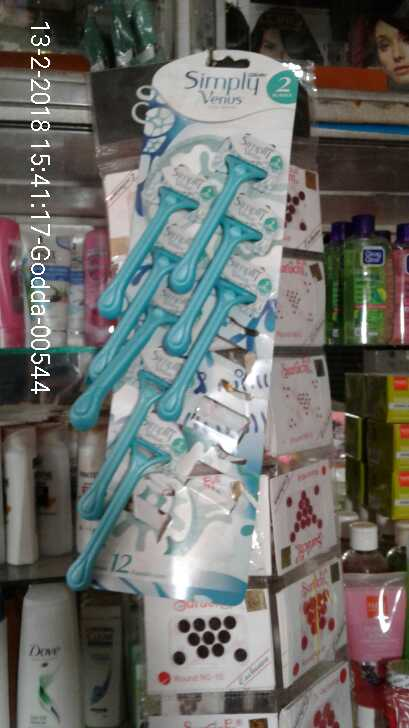venus: (73, 152, 267, 590)
